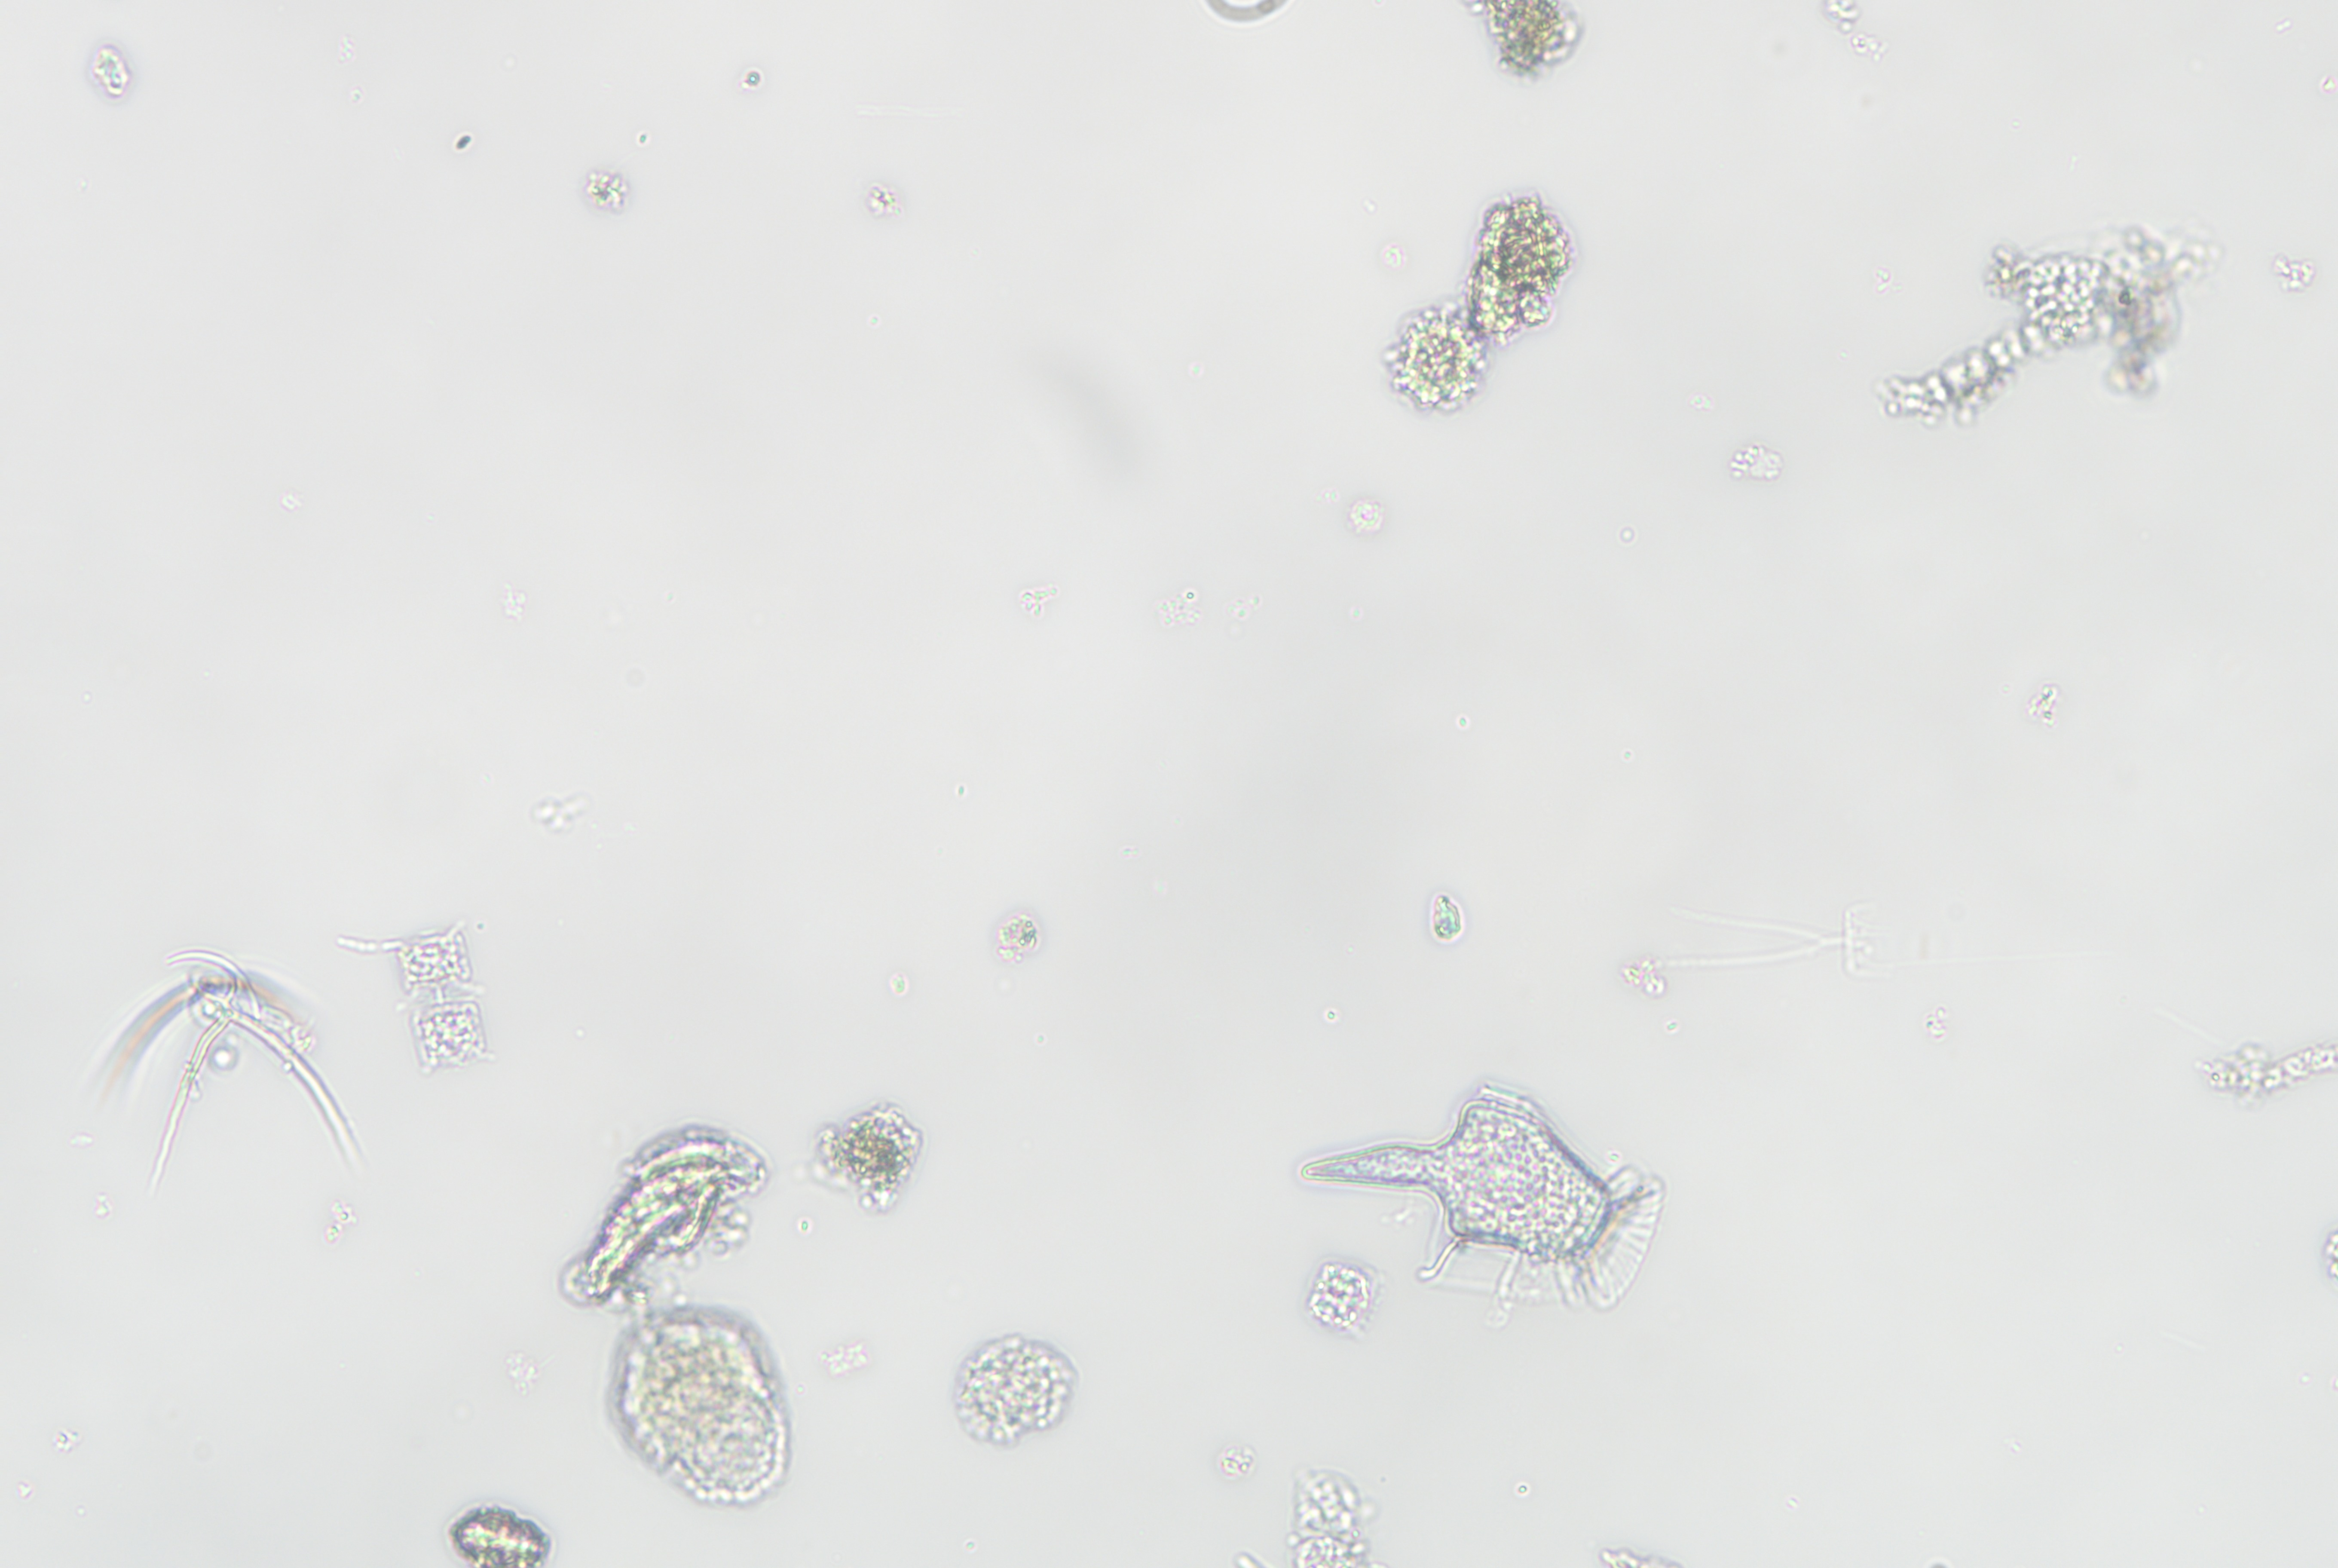dinophysis caudata: (1295, 1083, 1684, 1314)
